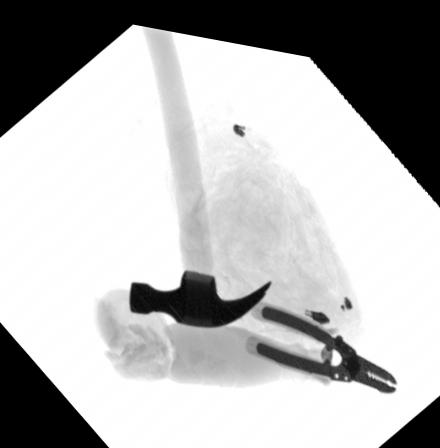Hammer: (127, 21, 272, 319)
Pliers: (243, 287, 398, 378)
